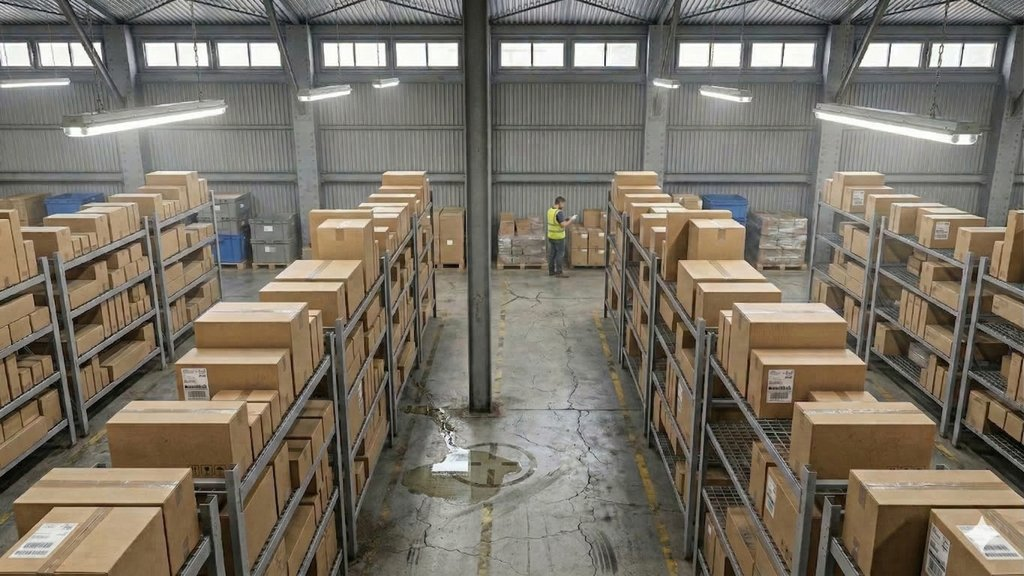empty_shelf: (709, 378, 753, 466)
pallet: (758, 262, 808, 277), (497, 262, 545, 273), (254, 259, 285, 274), (219, 260, 248, 273), (437, 261, 467, 273)
person: (537, 184, 576, 275)
safety_vest: (544, 205, 569, 244)
spill: (393, 390, 551, 532)
